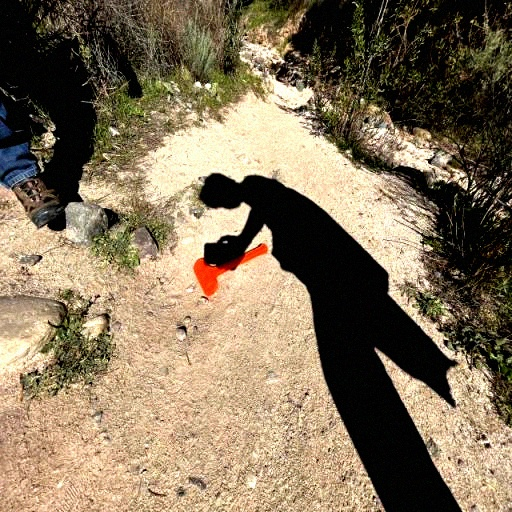mallet: (194, 243, 268, 296)
